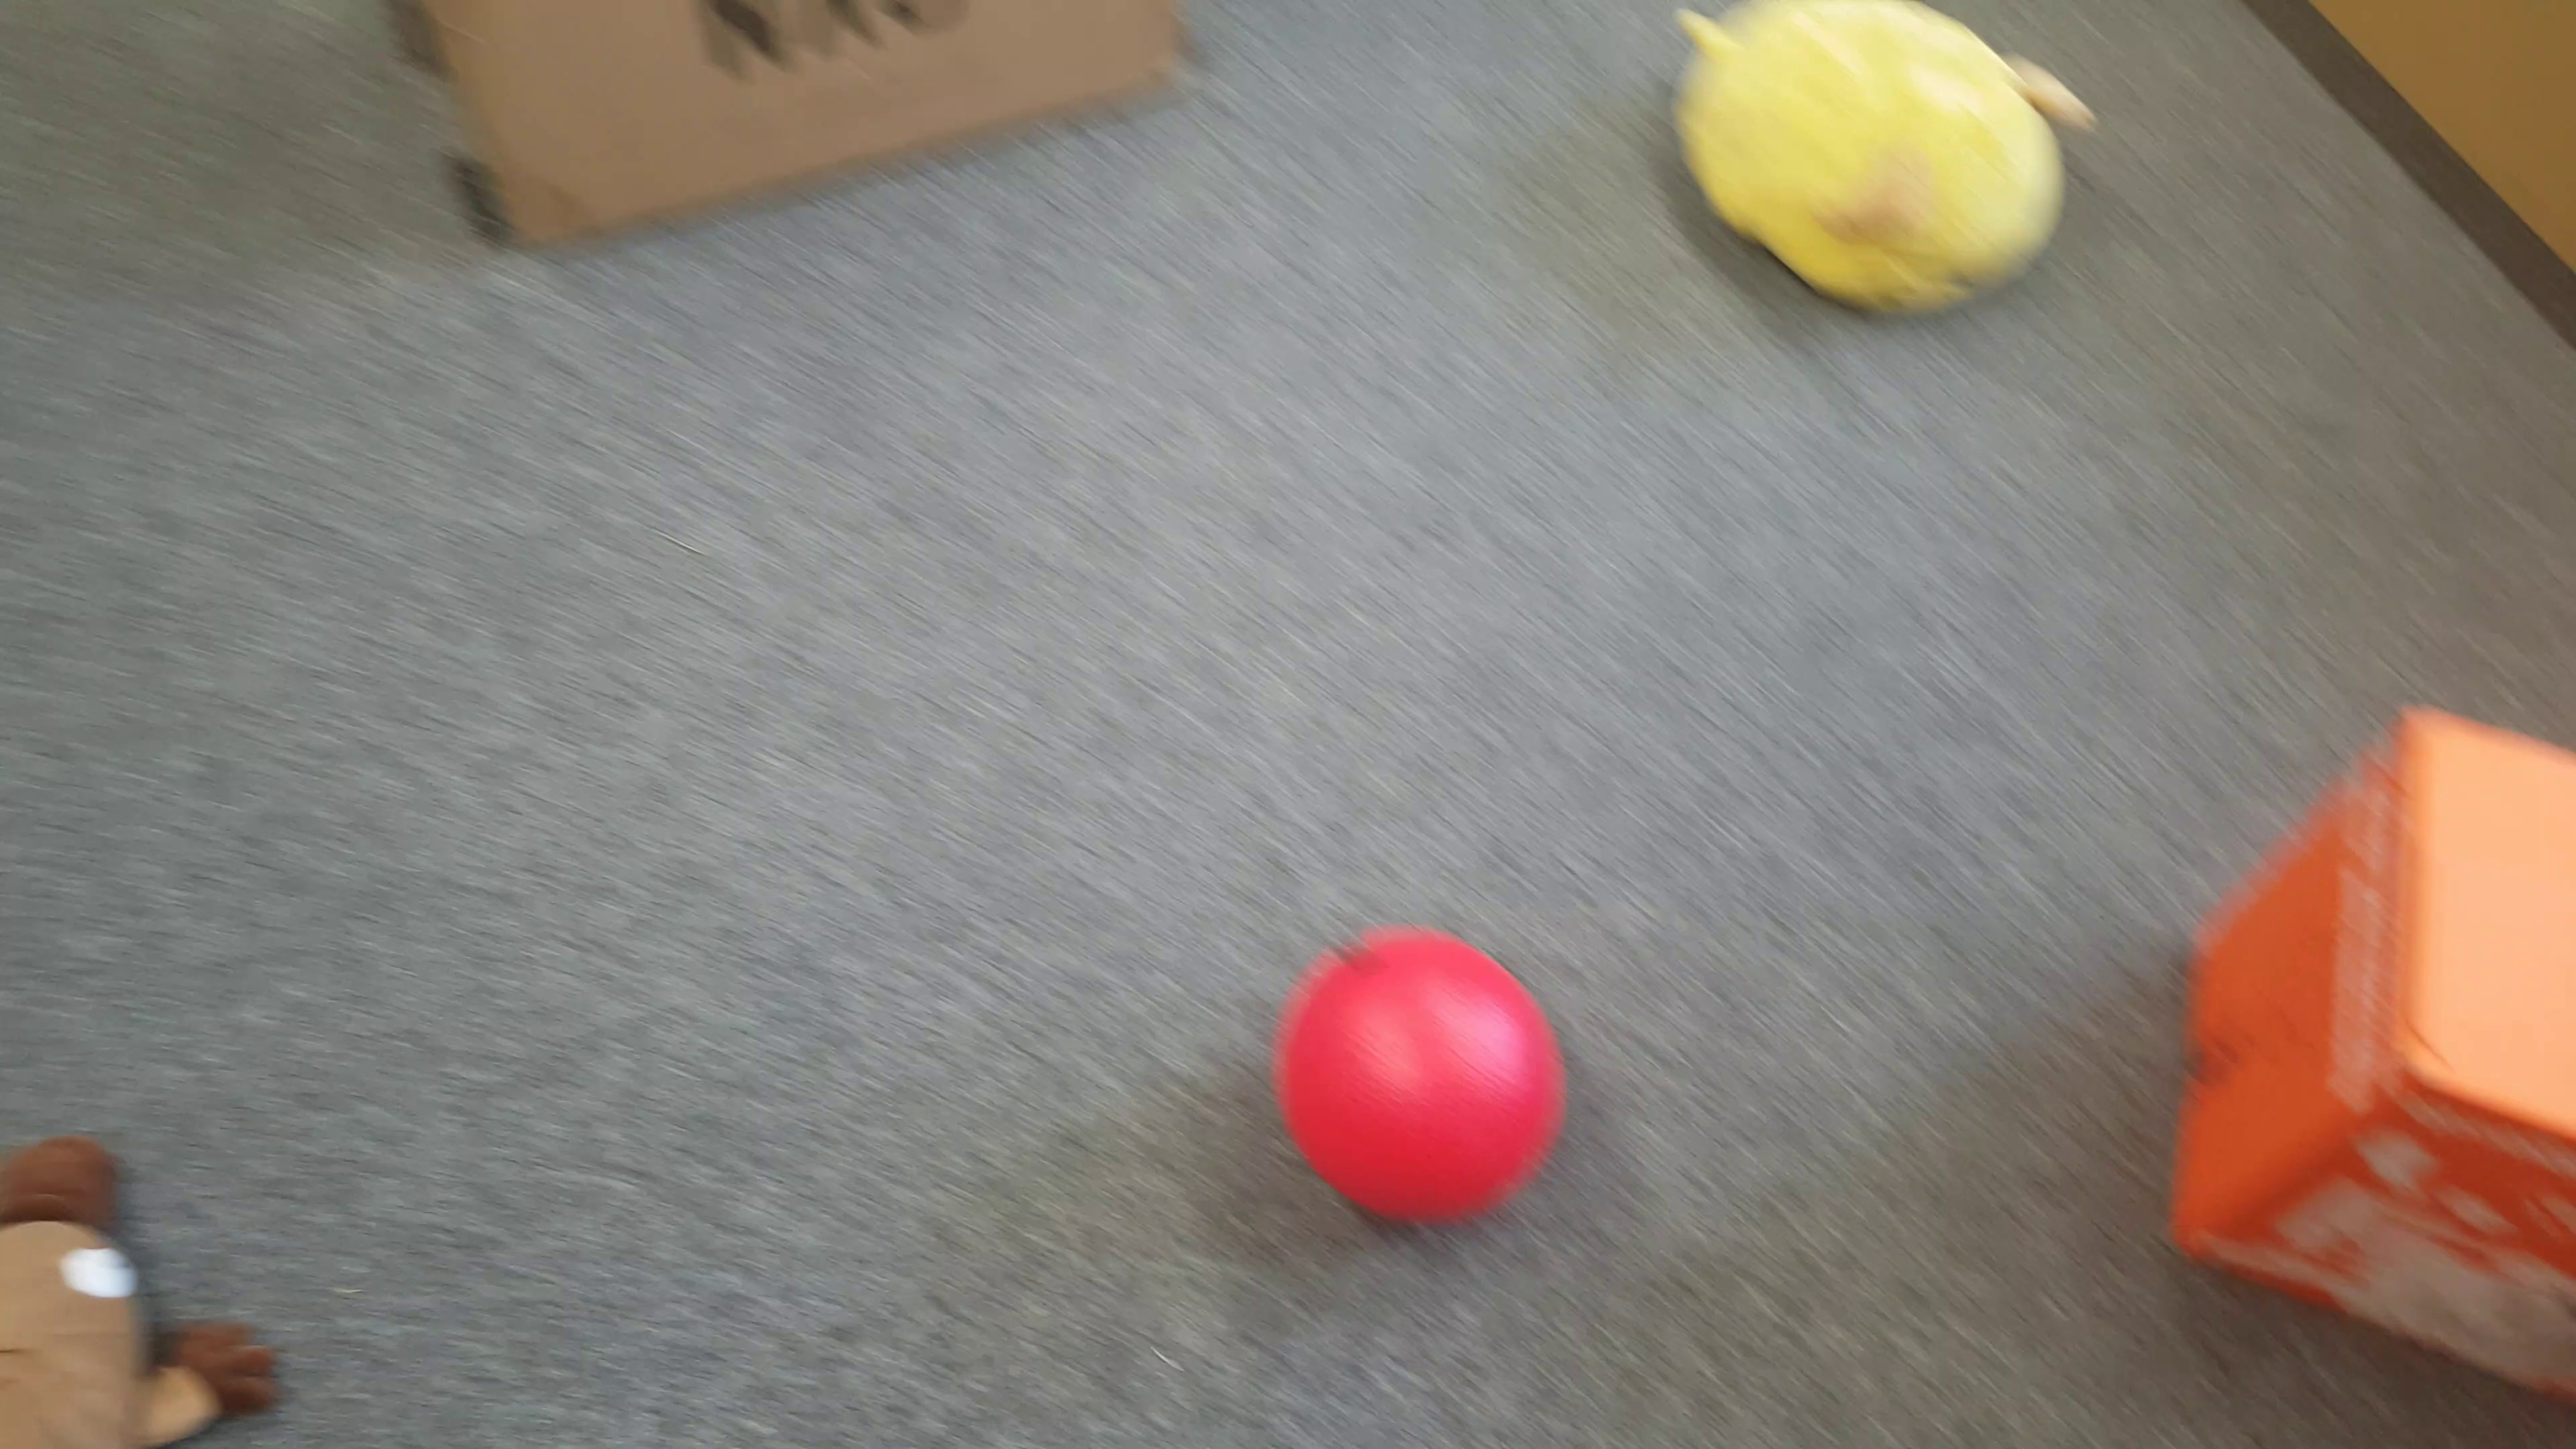grasp: (1668, 0, 2097, 317)
kick: (1270, 931, 1571, 1233)
push: (2176, 702, 2576, 1410)
